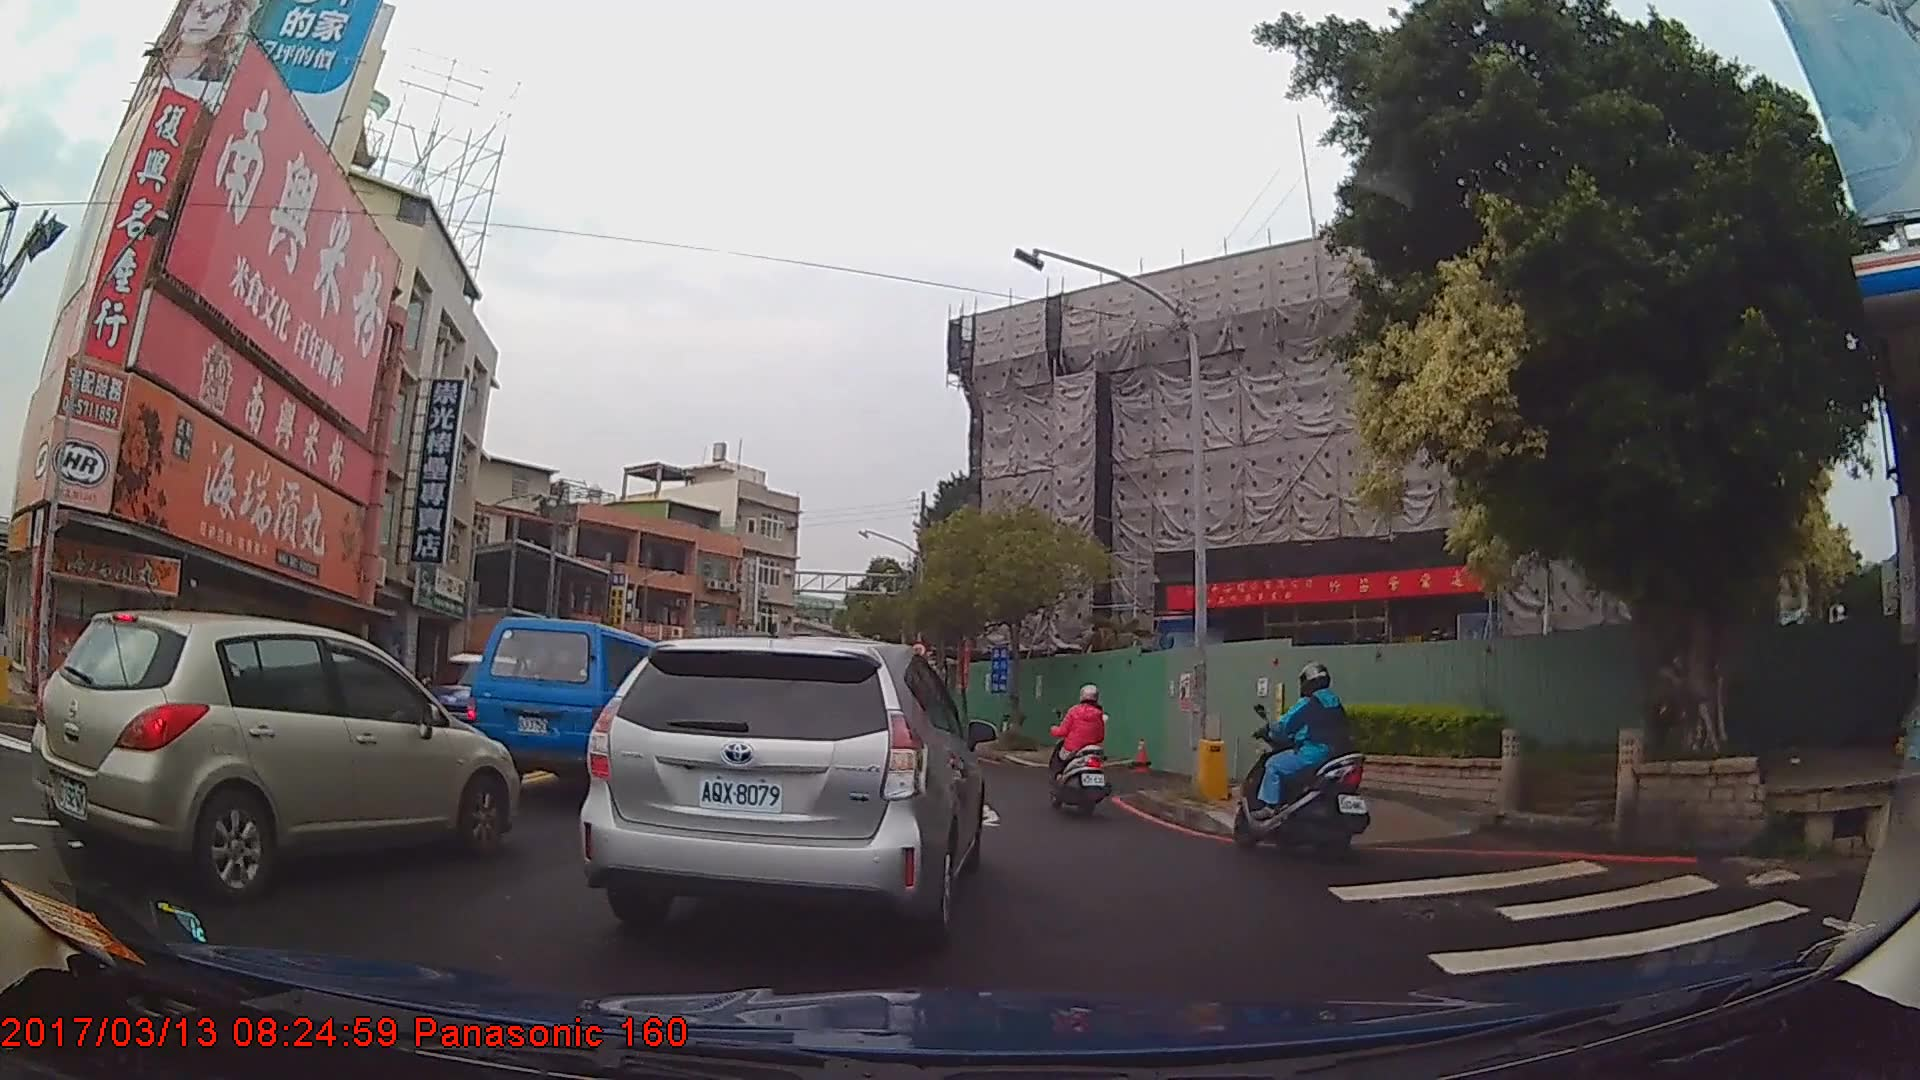rider: (1228, 667, 1366, 855), (1048, 681, 1110, 810)
vehicle: (23, 606, 517, 903), (573, 628, 985, 944), (466, 614, 678, 800), (407, 647, 542, 764)
